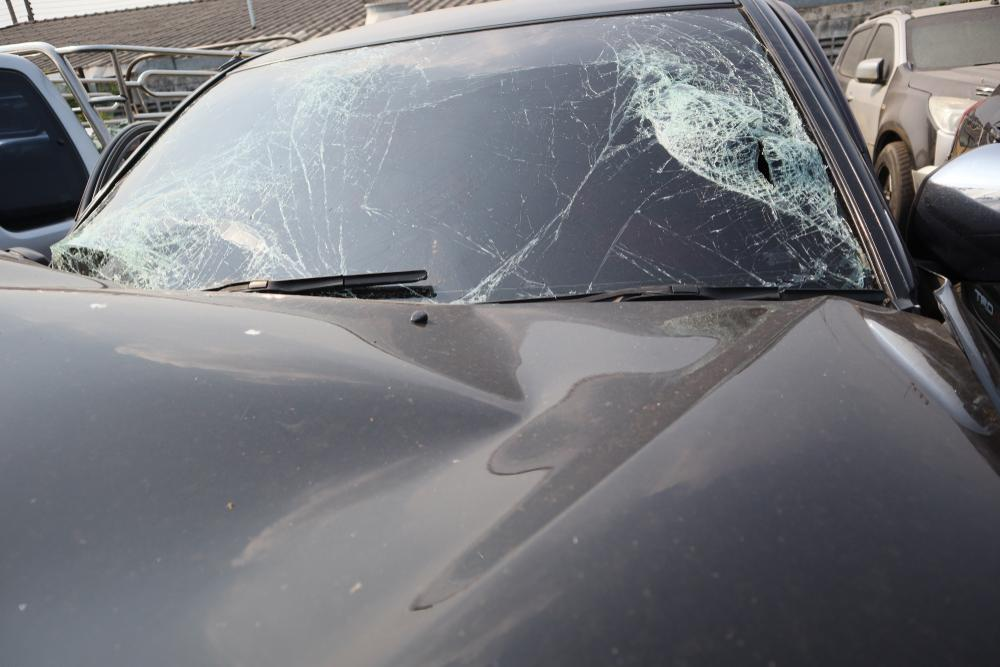dent: (227, 295, 831, 606)
glass shatter: (52, 8, 881, 304)
